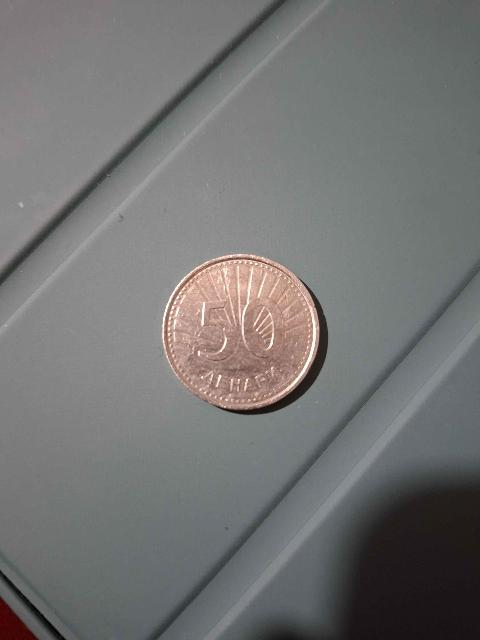50_coin: (163, 255, 318, 409)
